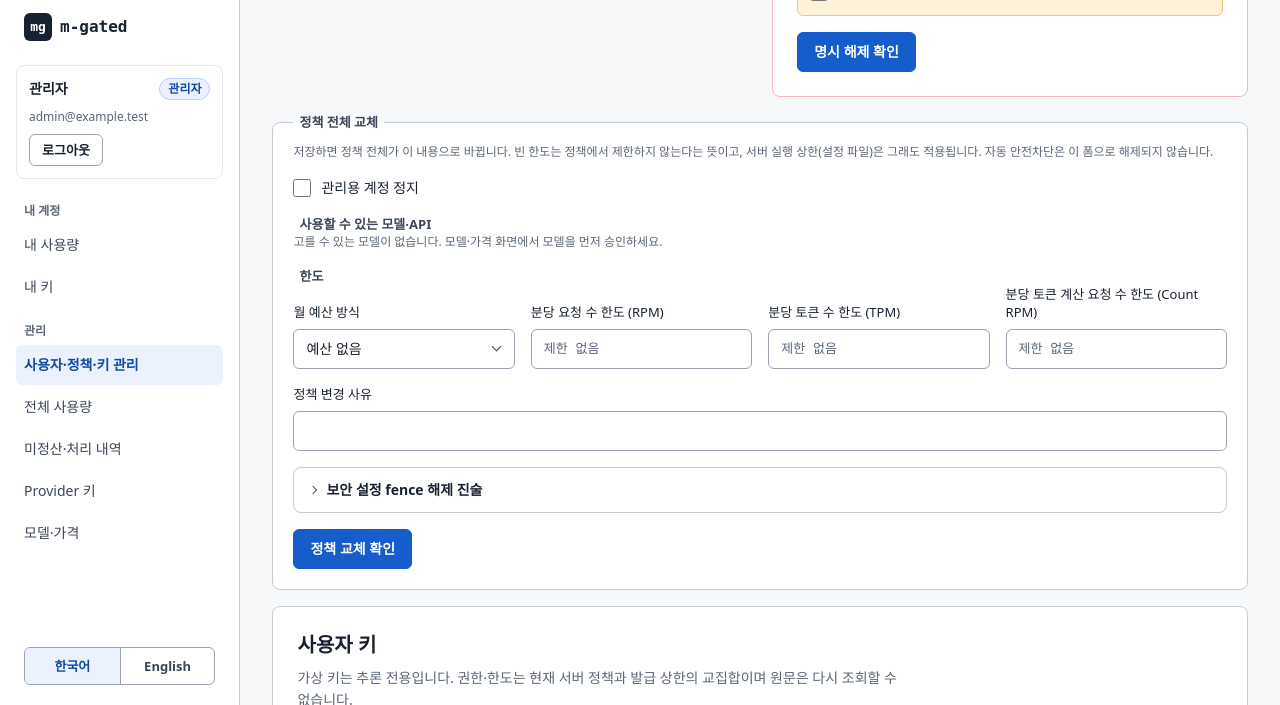
policy_form_rejects_a_malformed_budget_without_sending
The image size is (1280, 705).
(page scrolled)
Expected: the element "사용할 수 있는 모델·API" shows "고를 수 있는 모델이 없습니다", [294,233,662,250]
Select "예약 기반" in the dropdown labelled "월 예산 방식". click: (404, 349)
box: [294,329,515,369]
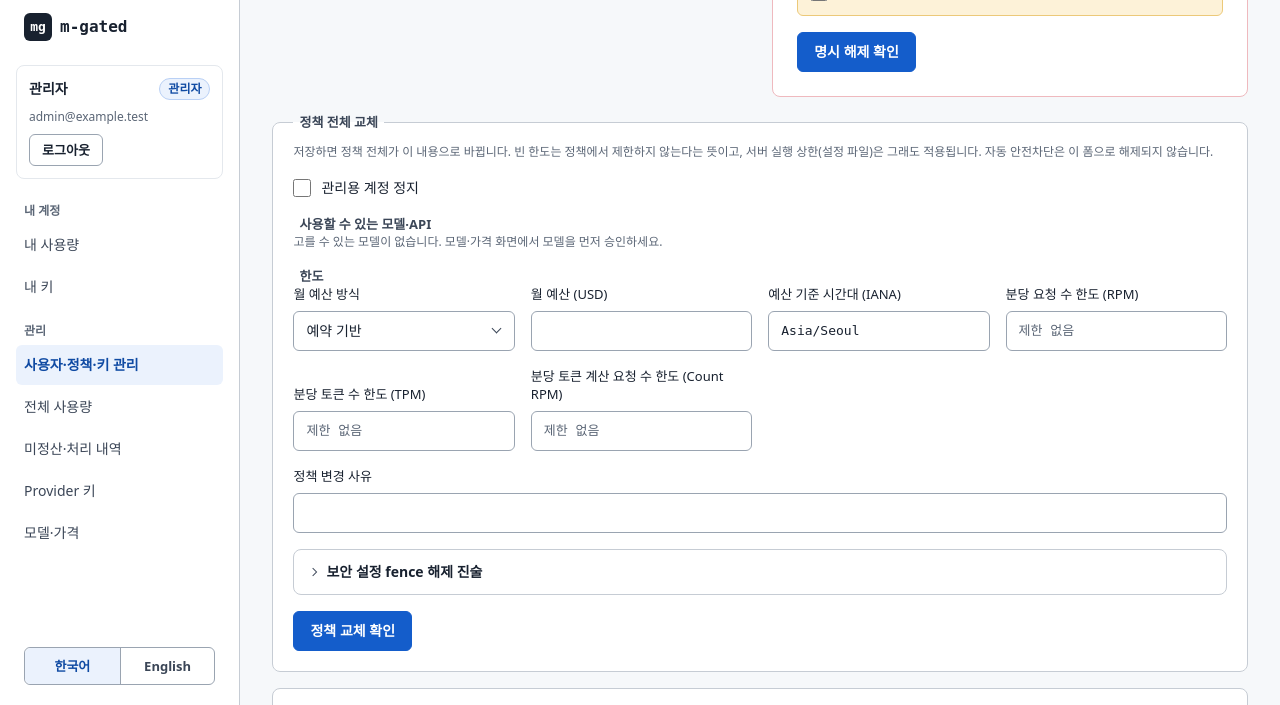
Type "1.5.0" into the field labelled "월 예산 (USD)". click: (642, 331)
box: [531,311,752,351]
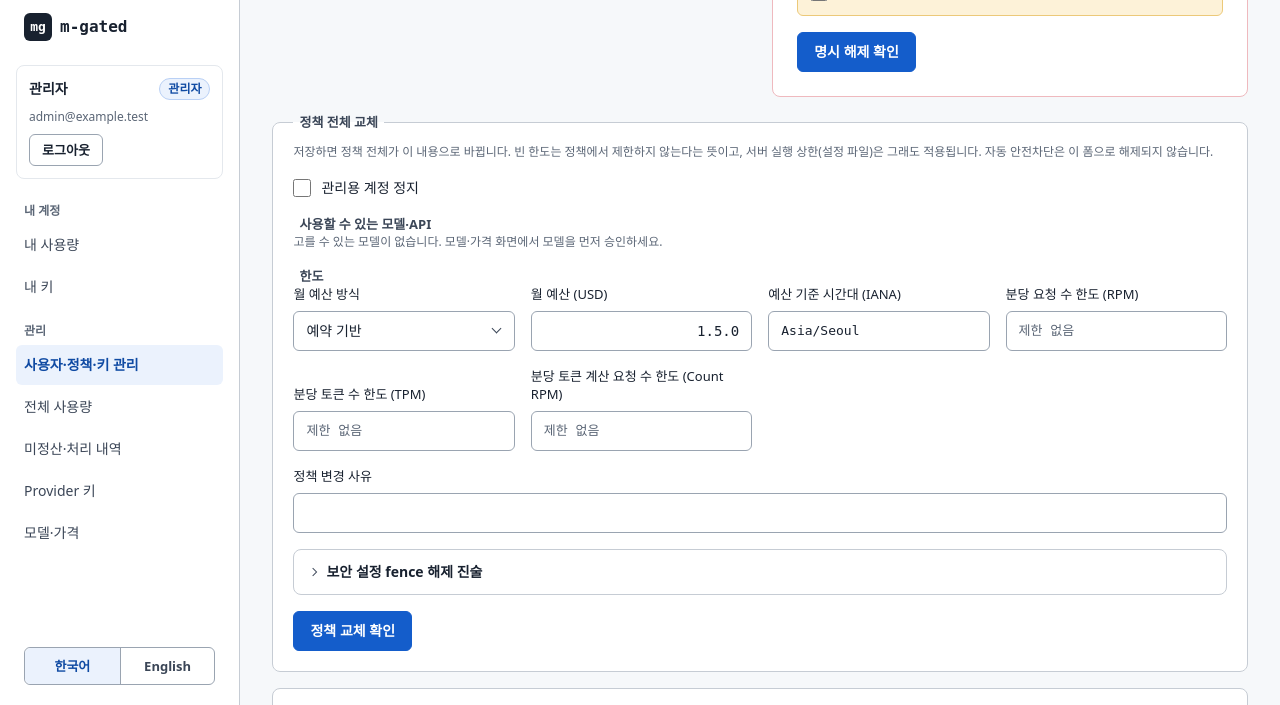
Type "x" into the field labelled "정책 변경 사유". click: (760, 513)
box: [294,493,1227,533]
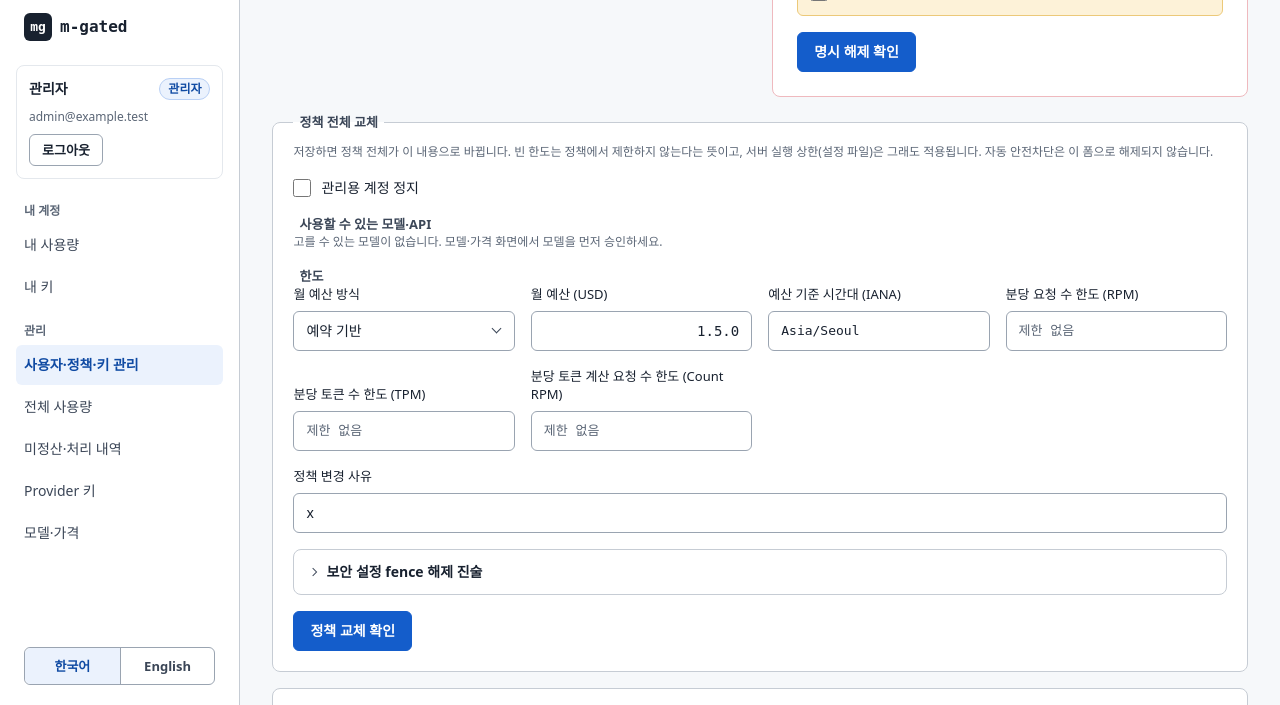
Submit the form named "정책 교체"
(page scrolled)
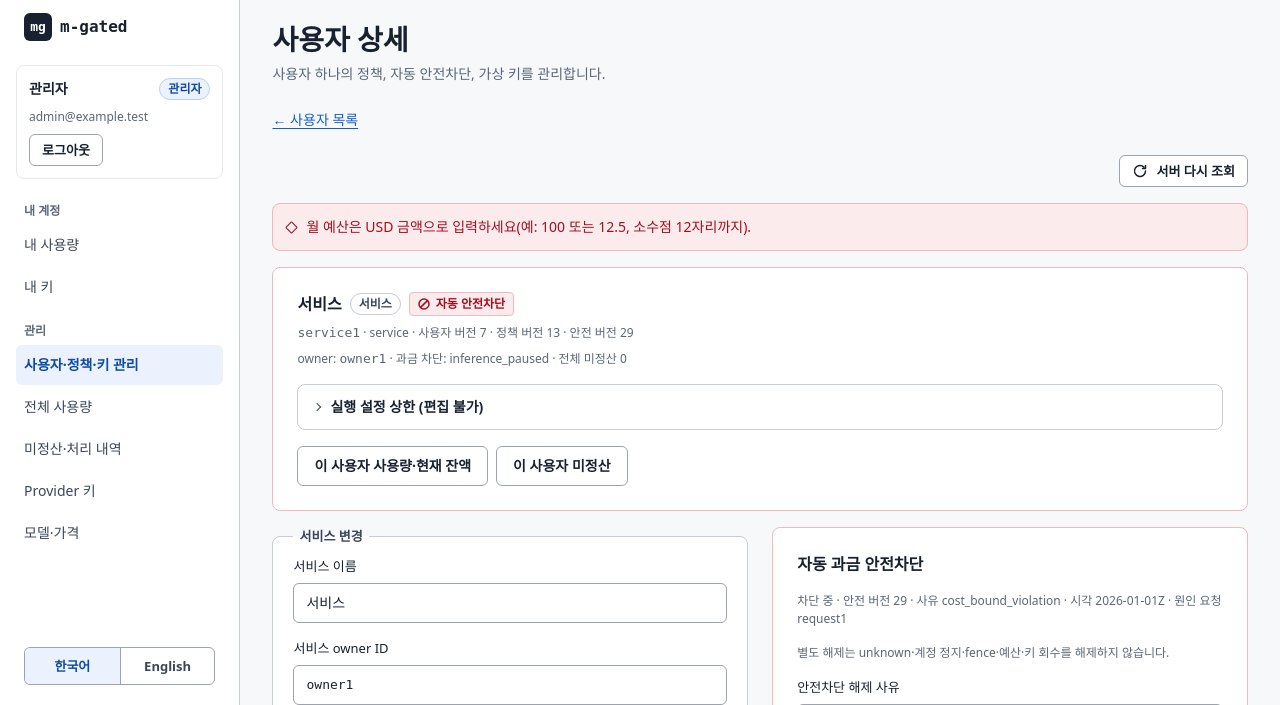
Result: the text "월 예산은 USD 금액으로 입력하세요(예: 100 또는 12.5, 소수점 12자리까지)." is shown at [272,203,1248,251]
